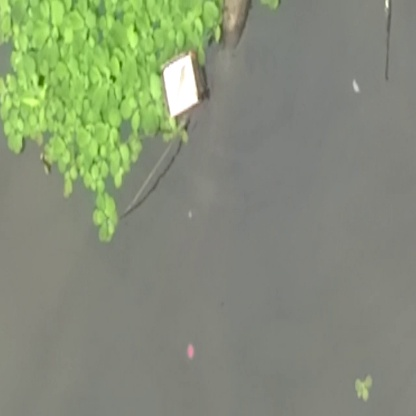milk-box: (159, 48, 212, 116)
